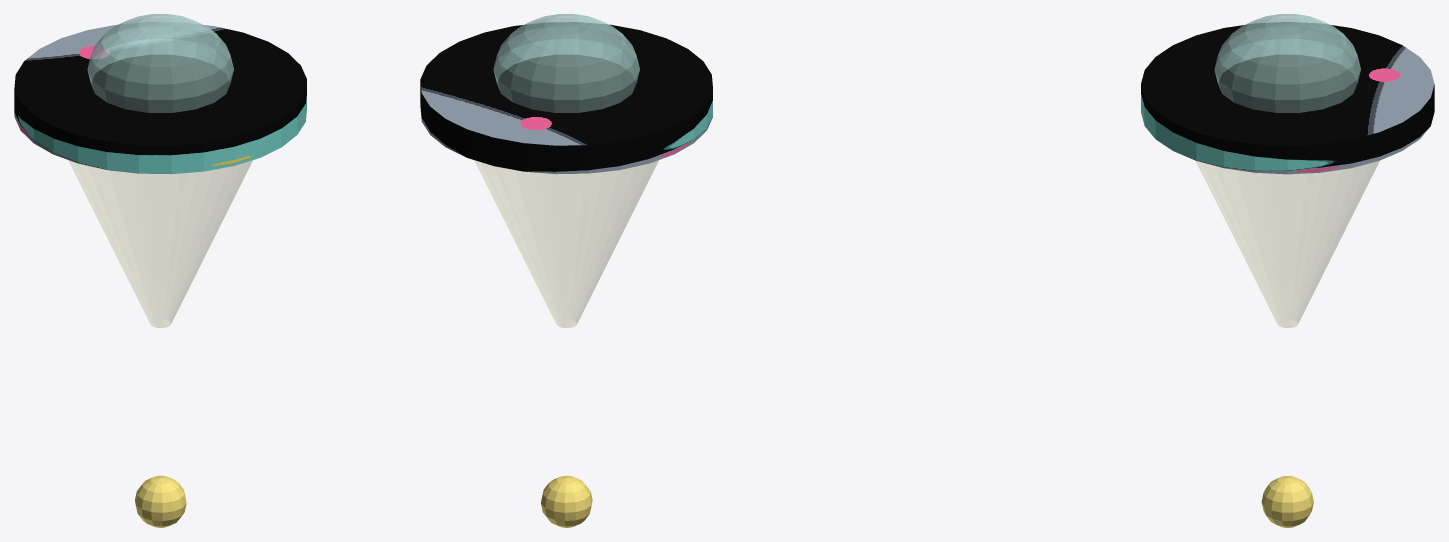
File: ufo_1tou_3d.glb
The picture shows the model from 3 angles, left to right: view 1: azimuth 30°, elevation 25°; view 2: azimuth 150°, elevation 25°; view 3: azimuth 270°, elevation 25°; orthographic projection.
Parts seen in each view (by area): view 1: ufo_disc, ufo_beam, ufo_dome, ufo_prize; view 2: ufo_disc, ufo_beam, ufo_dome, ufo_prize; view 3: ufo_disc, ufo_beam, ufo_dome, ufo_prize.
Boxes of the visible parts, <box> form: ufo_disc: <box>14,22,306,174</box>; ufo_beam: <box>68,160,252,327</box>; ufo_dome: <box>87,14,233,112</box>; ufo_prize: <box>135,475,186,527</box>; ufo_disc: <box>420,22,712,174</box>; ufo_beam: <box>475,160,658,327</box>; ufo_dome: <box>493,14,639,112</box>; ufo_prize: <box>541,475,592,527</box>; ufo_disc: <box>1141,22,1434,174</box>; ufo_beam: <box>1196,161,1379,327</box>; ufo_dome: <box>1214,14,1360,112</box>; ufo_prize: <box>1261,476,1313,527</box>.
Size of the model in its own units: 0.56 by 1.06 by 1.16.
7 materials, 3 textured.
